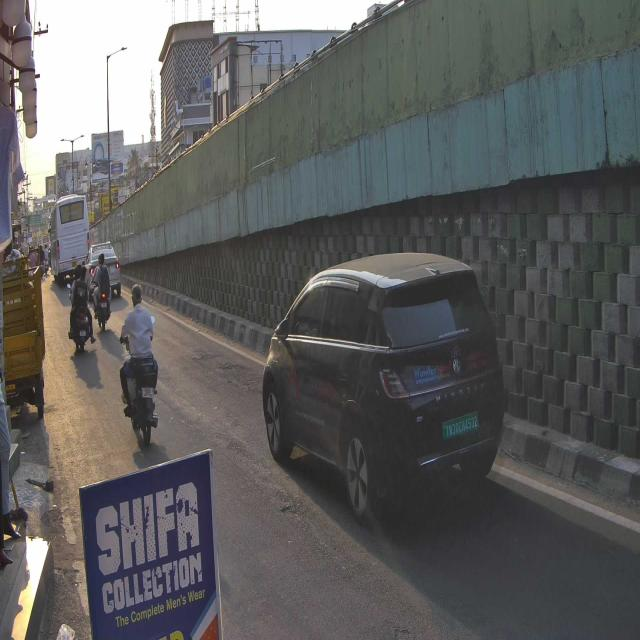single_rider: (118, 283, 160, 448)
